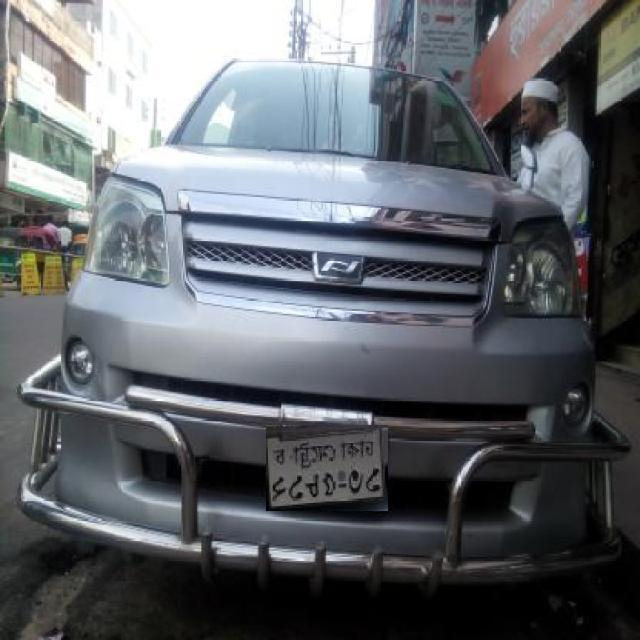numberplate: (266, 425, 388, 511)
